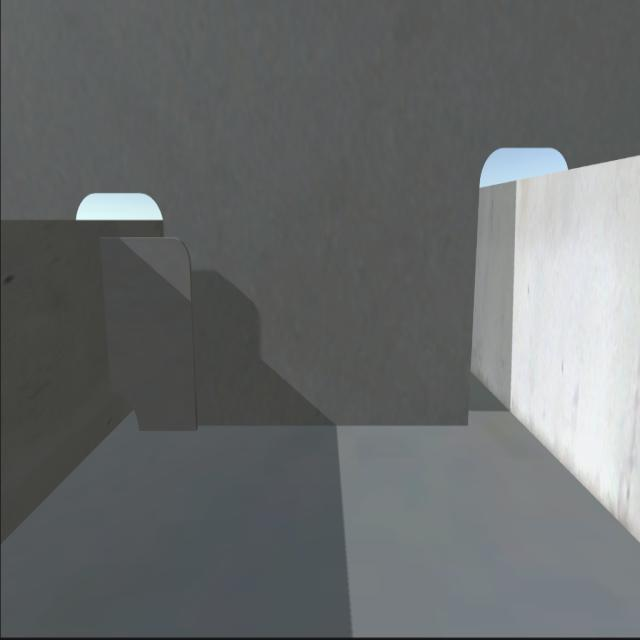fillet_hole: (113, 392, 142, 436)
fillet_yong_jeop_jang: (139, 417, 467, 433)
longi_yong_jeop_jang: (101, 238, 120, 400)
plate_CP05: (104, 225, 201, 433)
